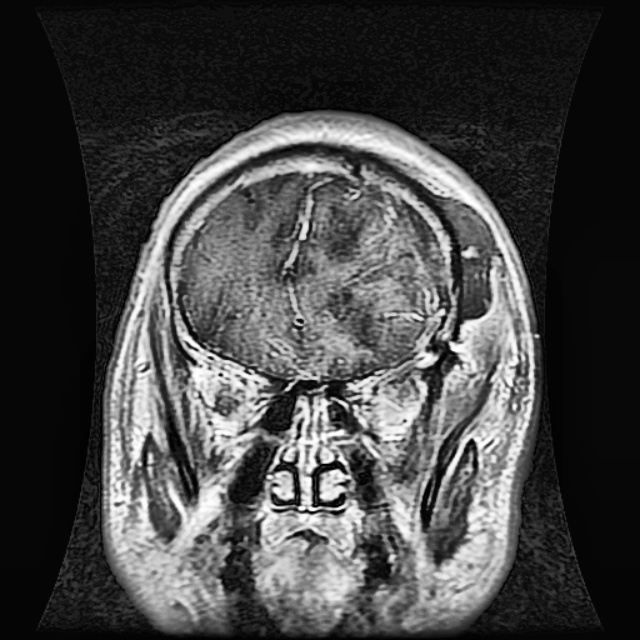Glioma: (368, 193, 450, 308)
